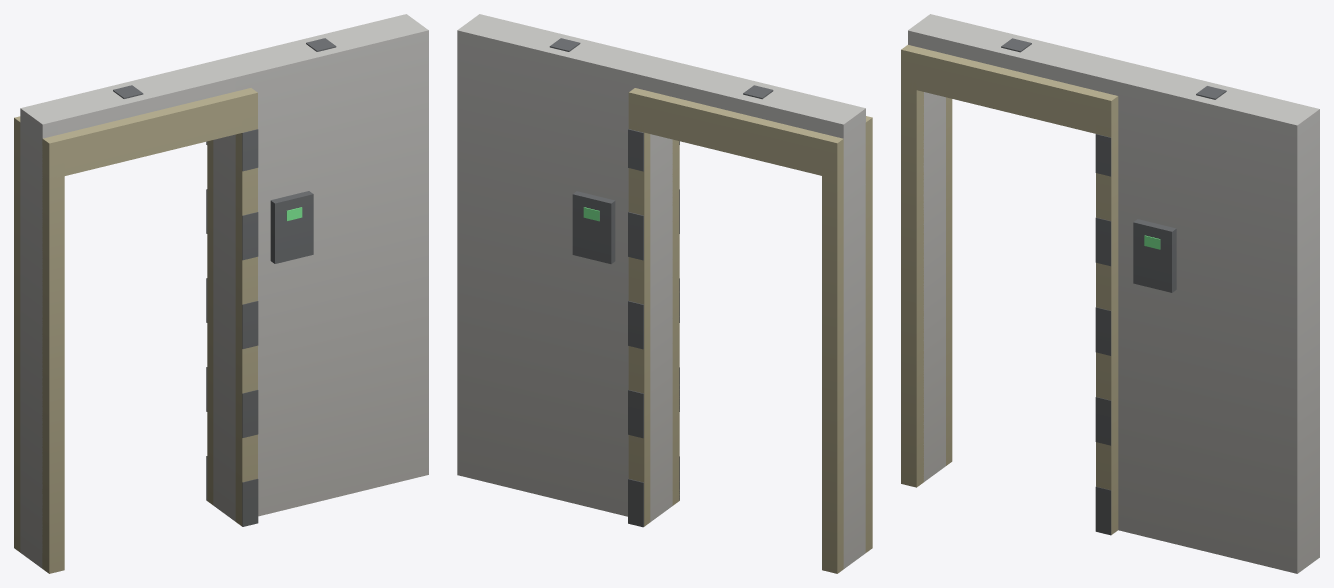
File: airlockWall_concrete.glb
3 views of the same model, side by side, from view 1: azimuth 30°, elevation 25°; view 2: azimuth 150°, elevation 25°; view 3: azimuth 330°, elevation 25° (orthographic).
Visible parts, largest first — view 1: airlockWall_concrete; view 2: airlockWall_concrete; view 3: airlockWall_concrete.
Boxes of the visible parts, x1=… form: airlockWall_concrete: x1=14, y1=14, x2=428, y2=573; airlockWall_concrete: x1=457, y1=14, x2=872, y2=573; airlockWall_concrete: x1=901, y1=14, x2=1319, y2=573.
Bounding box in the file's own units: 2 × 2.21 × 0.326.
